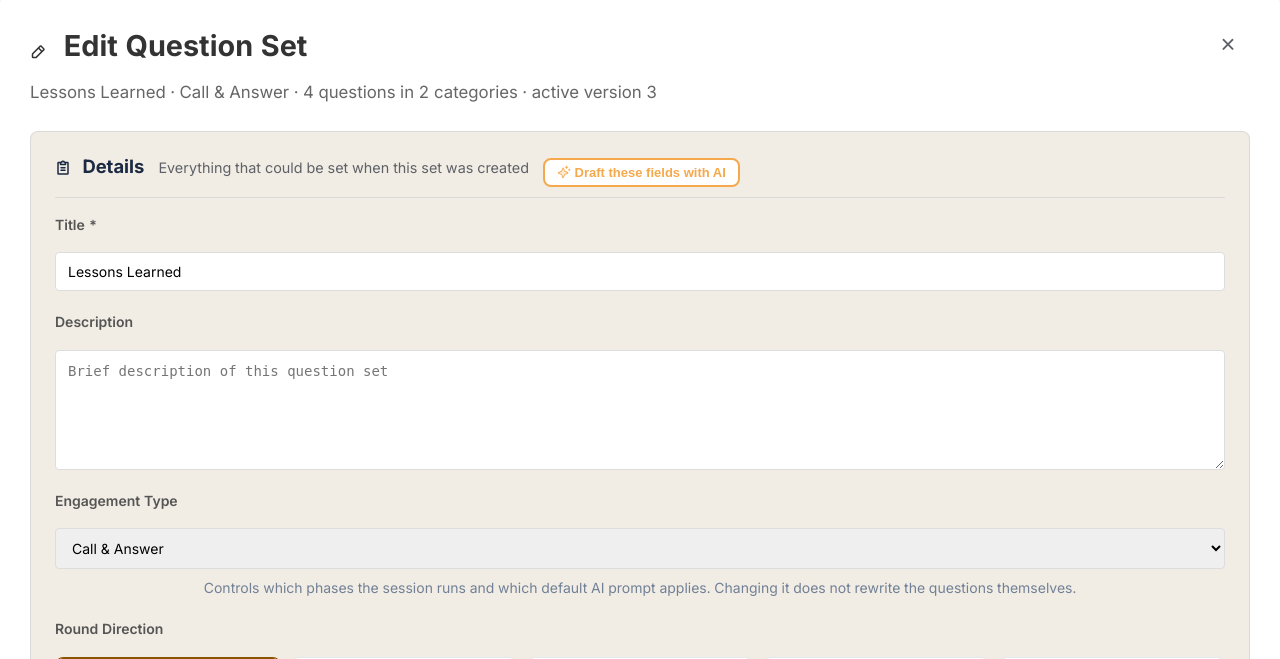
Test: the result is a draft in the form › fills the blank fields in and sends nothing to the server
The width and height of the screenshot is (1280, 659).
Click the button "Draft these fields with AI": (641, 172) [543, 158, 740, 187]
(page scrolled)
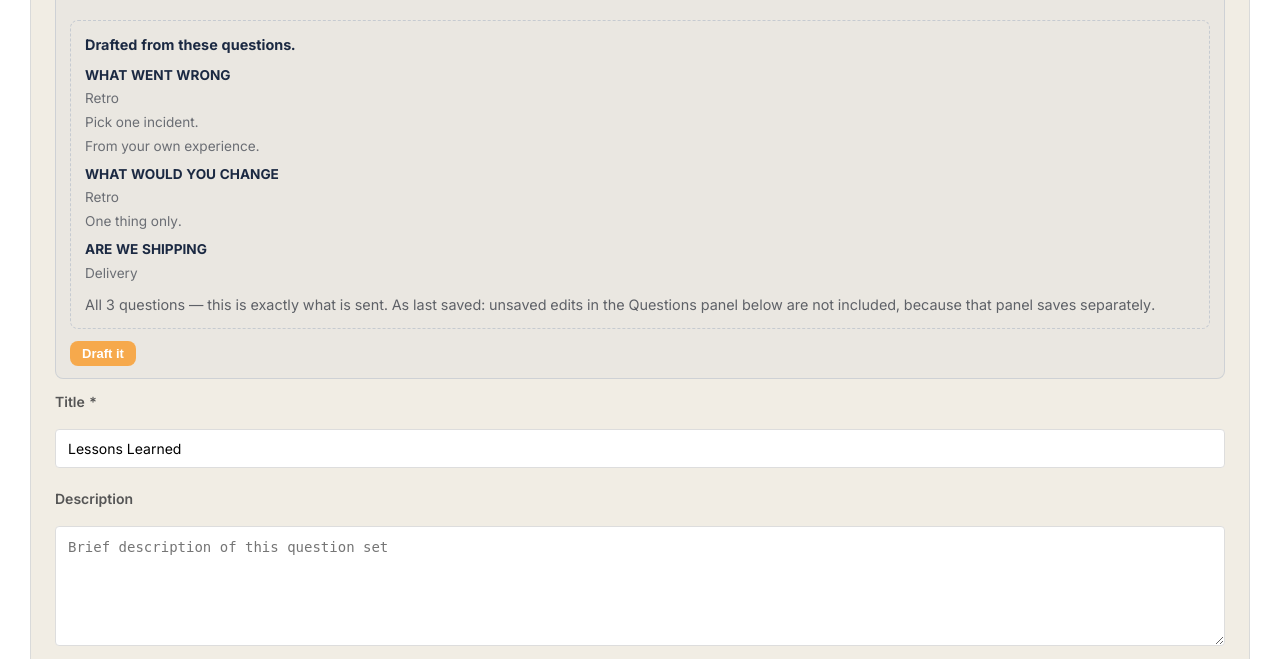
Click the button "Draft it": (103, 353) [70, 341, 136, 366]
(page scrolled)
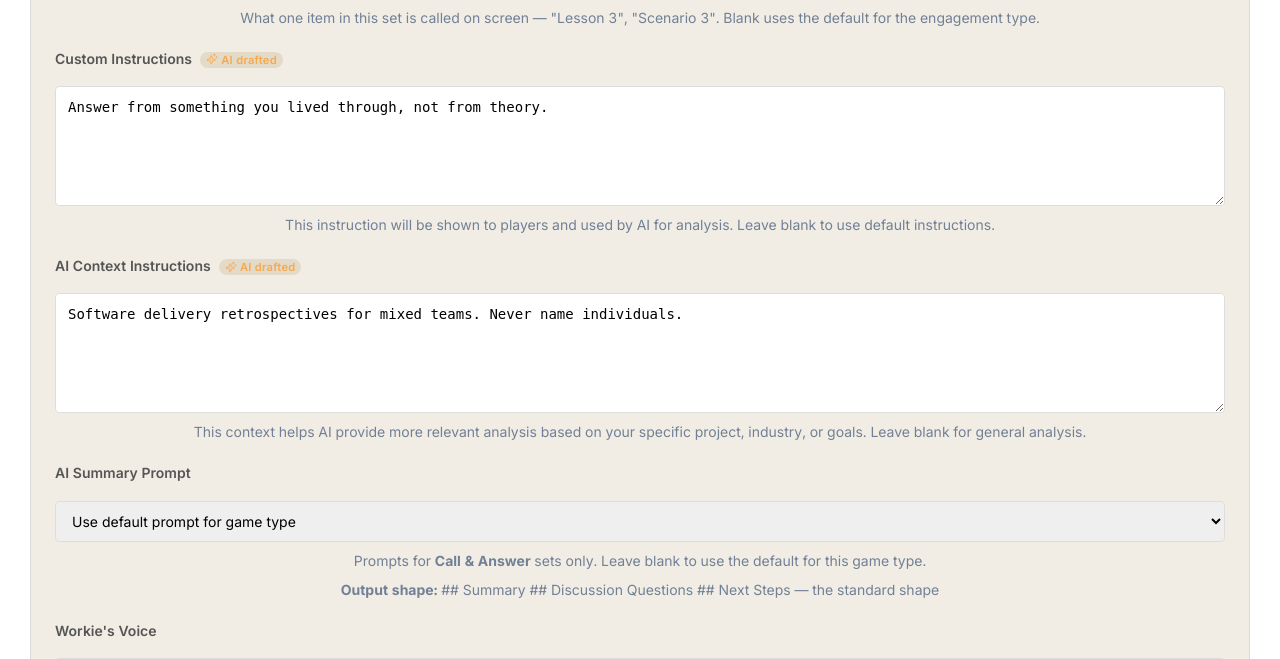
Expected: the text box labelled "Custom Instructions AI drafted" holds "Answer from something you lived through, not from theory.", [55, 86, 1225, 206]
Expected: the text box labelled "AI Context Instructions AI drafted" holds "Software delivery retrospectives for mixed teams. Never name individuals.", [55, 293, 1225, 413]
